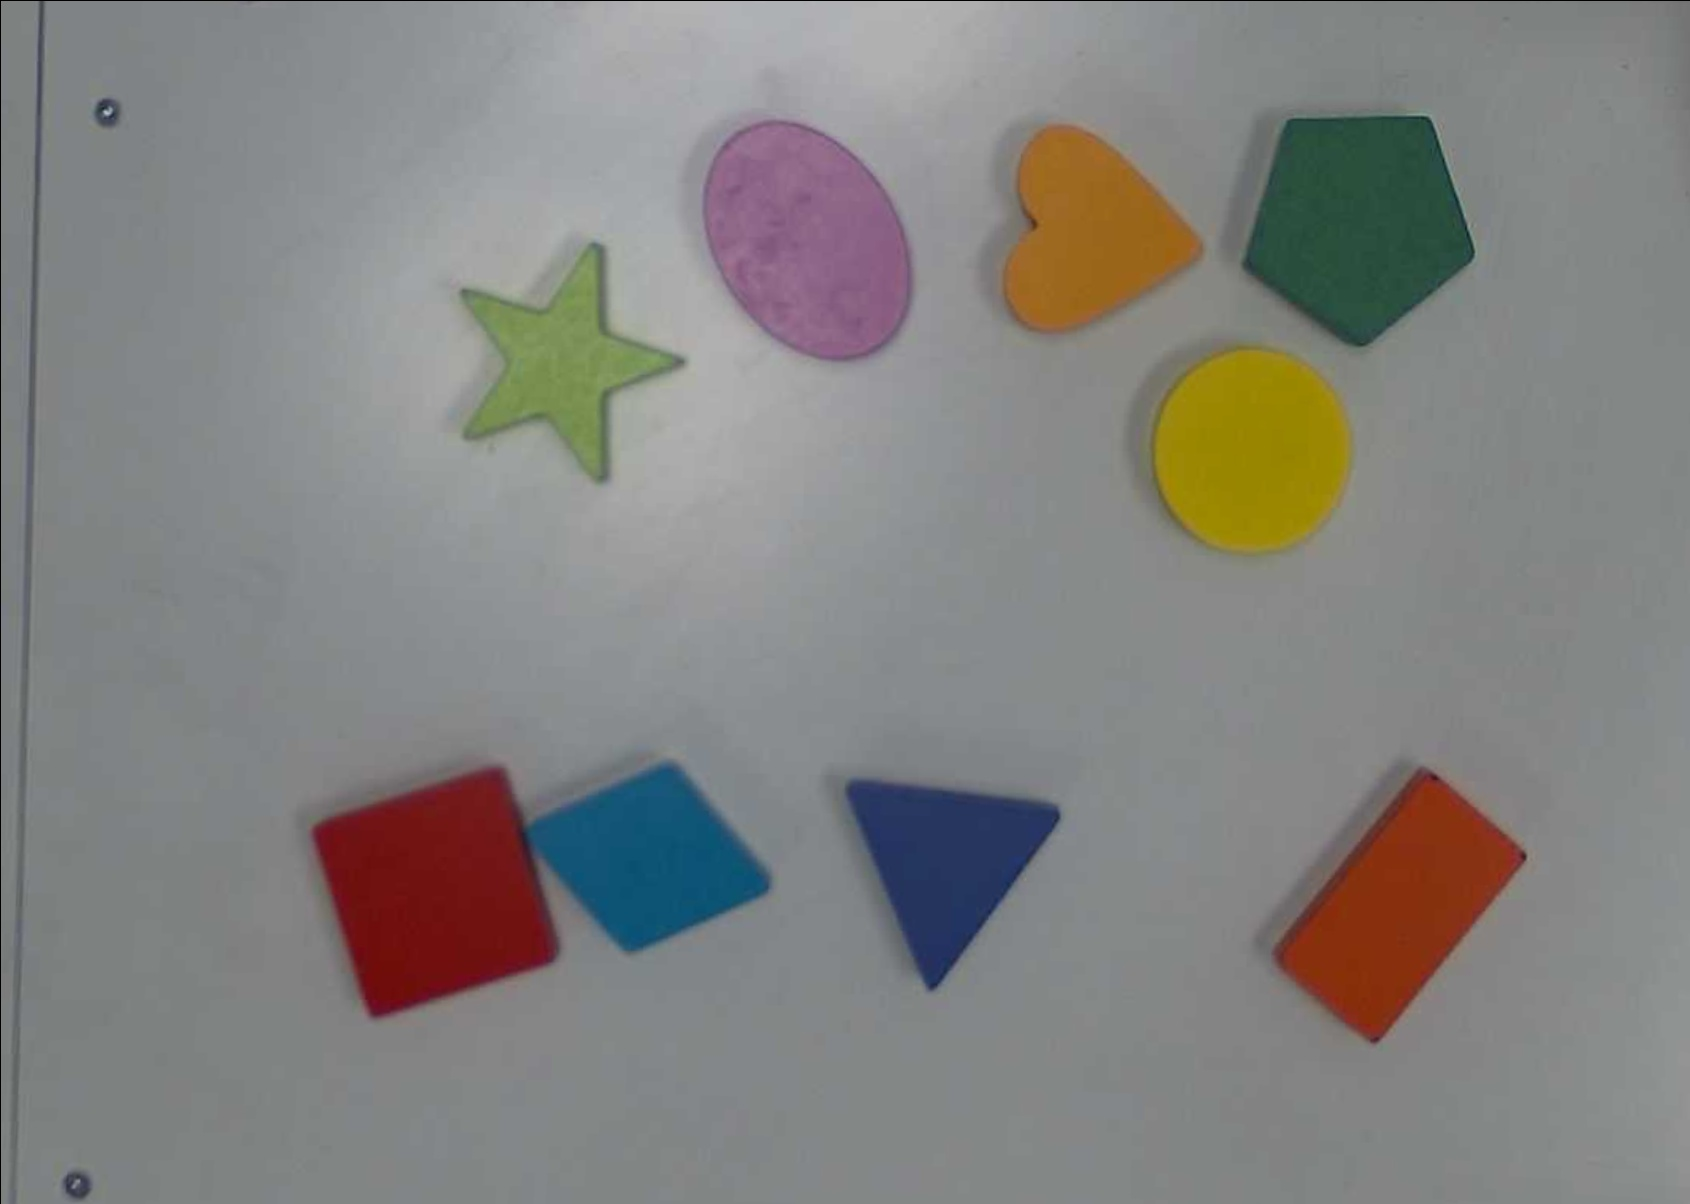Circle: (1147, 348, 1359, 560)
Ellipse: (698, 119, 916, 362)
Heart: (999, 119, 1208, 336)
Parallelogram: (516, 753, 774, 958)
Pentagon: (1238, 112, 1480, 349)
Rectangle: (1273, 767, 1530, 1046)
Square: (308, 765, 562, 1023)
Star: (452, 240, 692, 485)
Triangle: (842, 770, 1061, 996)
